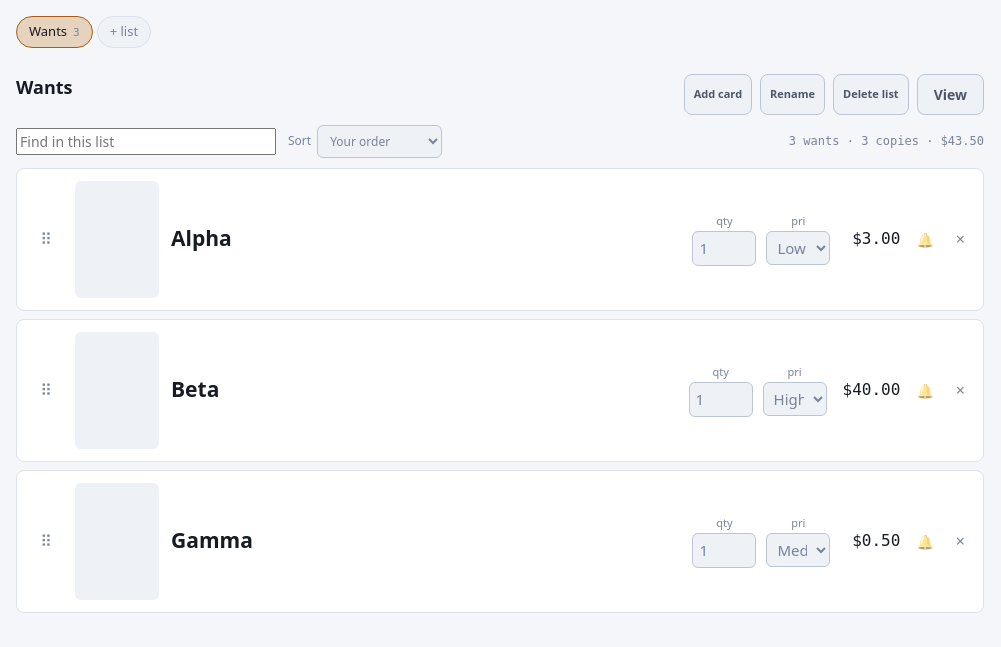
Test: WantListsPage find and sort › sorts by price and priority, and takes the drag handles away while it does
Expected: the button named "Reorder Alpha" is shown, [29,217,63,261]
Expected: the text "3 wants · 3 copies · $43.50" is shown, [789,134,984,148]
Step 1. Select "Price" in the dropdown labelled "Sort" → [380, 141], box [317,124,442,158]
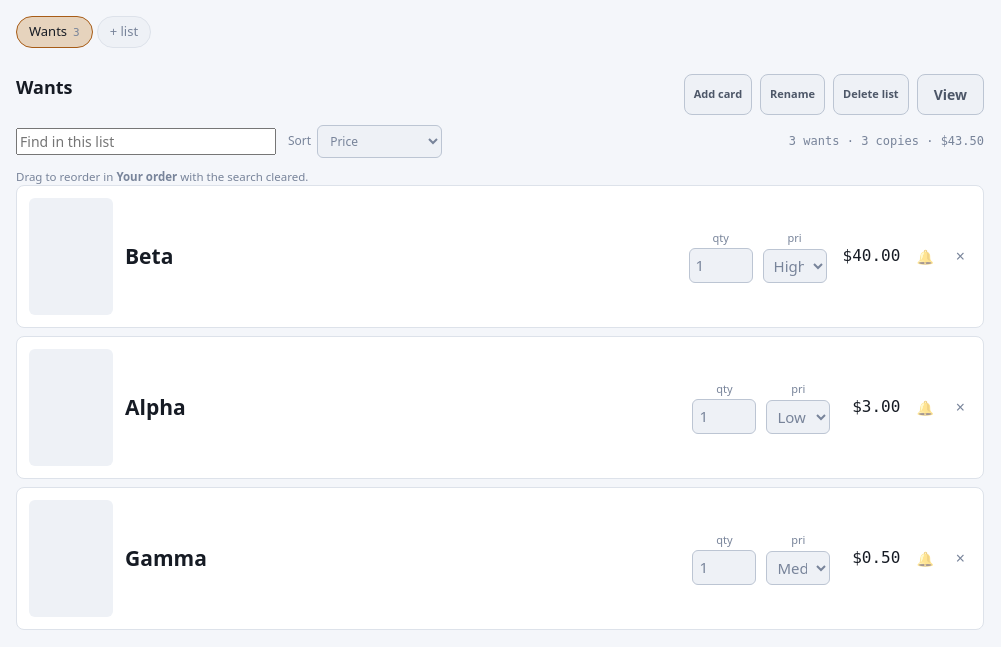
Step 2. Select "Priority" in the dropdown labelled "Sort" → [380, 141], box [317,124,442,158]
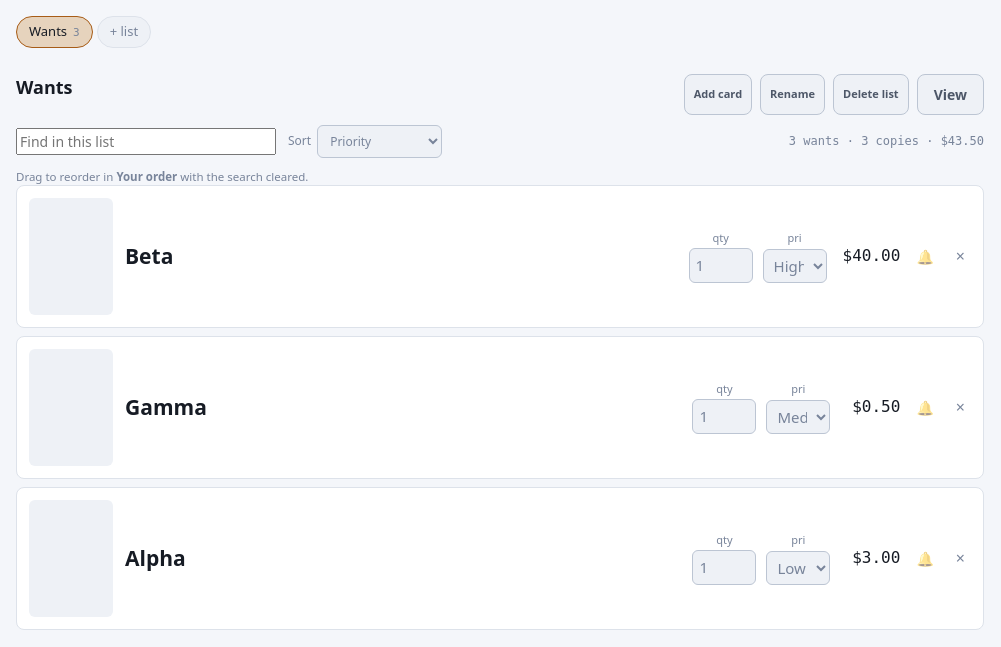
Step 3. Select "Your order" in the dropdown labelled "Sort" → [380, 141], box [317,124,442,158]
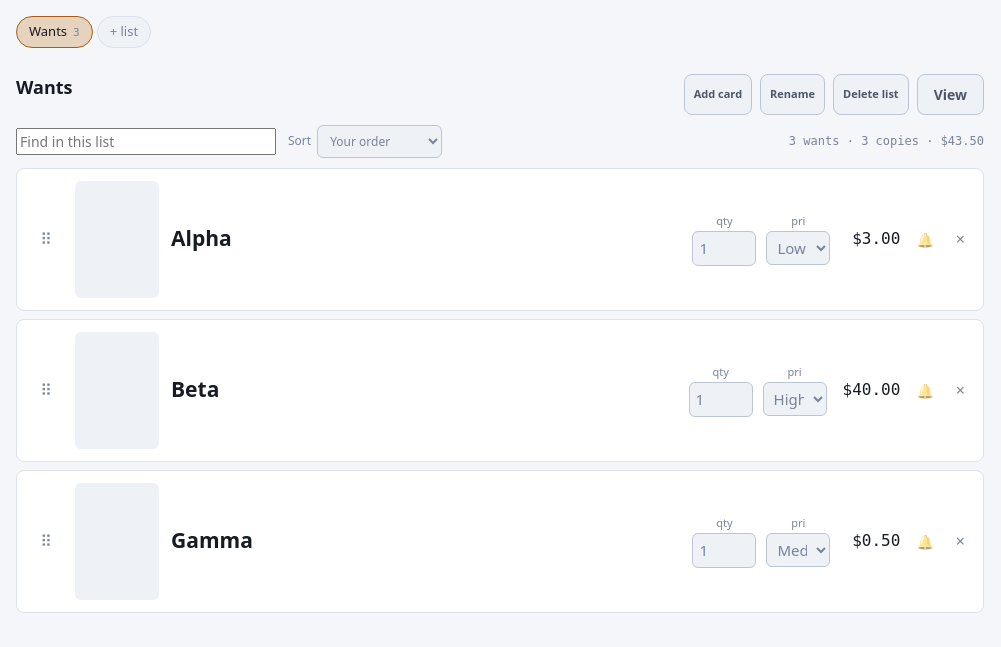
Now the button named "Reorder Alpha" is shown, box [29,217,63,261]
